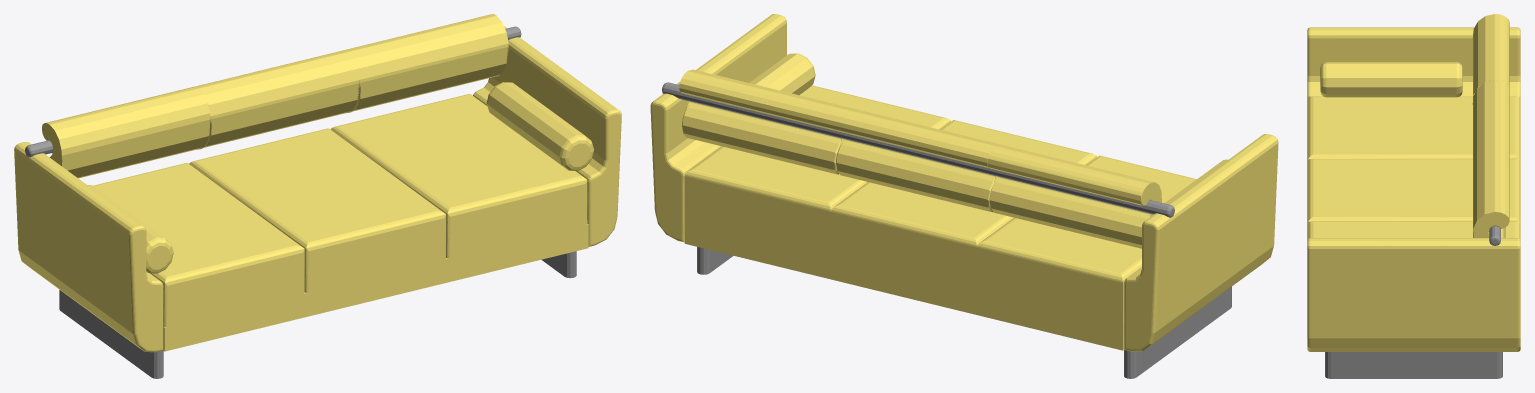
Rendered from couch-by-cmht-oculus-0lqxIR-BUrn.glb.
3 renders of one model, left to right at view 1: azimuth 30°, elevation 25°; view 2: azimuth 150°, elevation 25°; view 3: azimuth 270°, elevation 25°, orthographic. The views are drawn at different scales.
Visible parts, largest first — view 1: Node; view 2: Node; view 3: Node.
Boxes of the visible parts, x1=… form: Node: x1=14, y1=14, x2=621, y2=378; Node: x1=650, y1=14, x2=1278, y2=378; Node: x1=1307, y1=14, x2=1520, y2=378.
Bounding box in the file's own units: 87.05 × 32 × 36.
